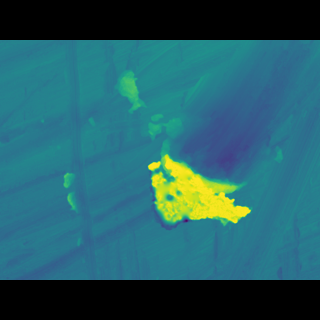Loch: (137, 145, 260, 218), (63, 69, 100, 250)
